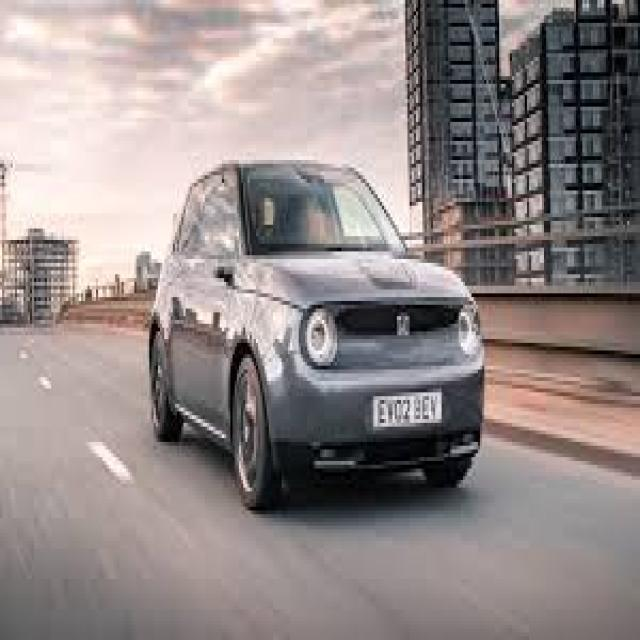car: (144, 136, 493, 535)
